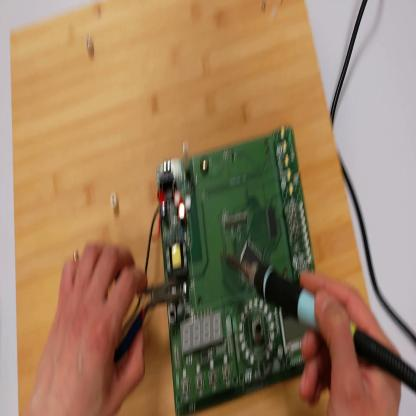hand: (34, 239, 149, 416), (296, 272, 405, 416)
low voltage board: (123, 124, 317, 416)
pliers: (114, 271, 186, 355)
welder probe tip: (225, 254, 374, 363)
working area: (12, 2, 373, 415)
